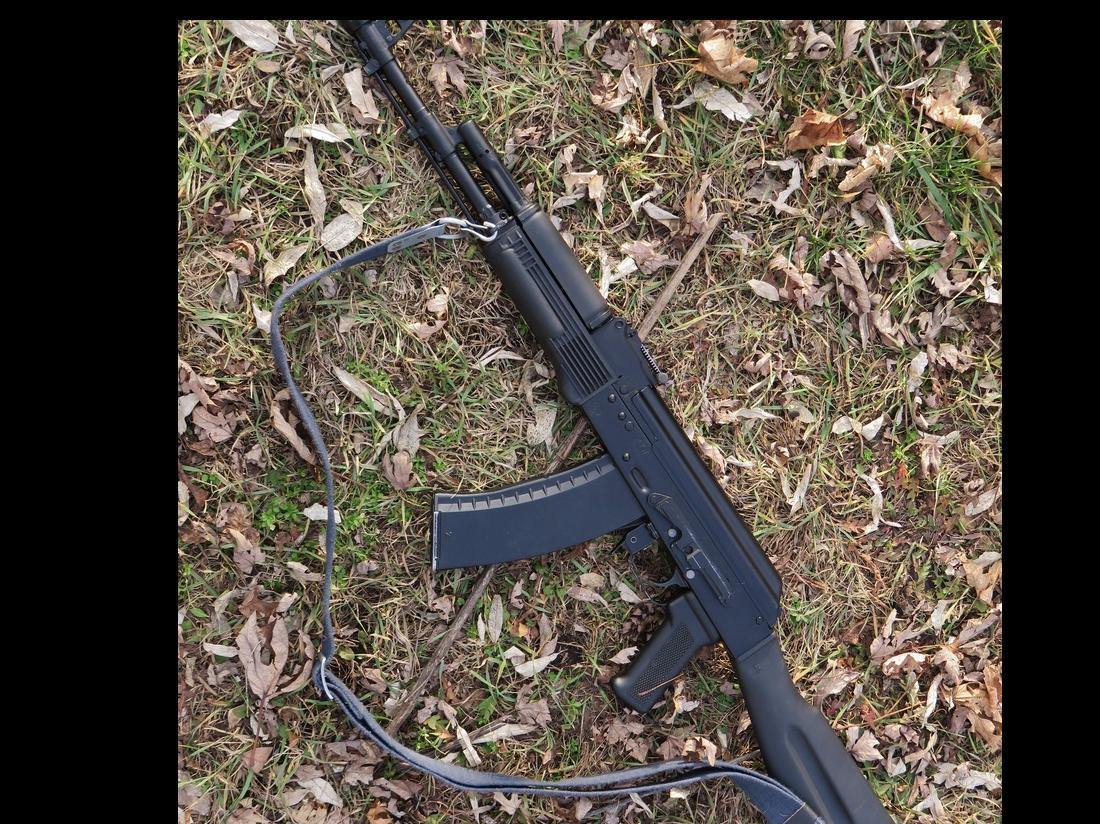larga: (336, 22, 895, 824)
